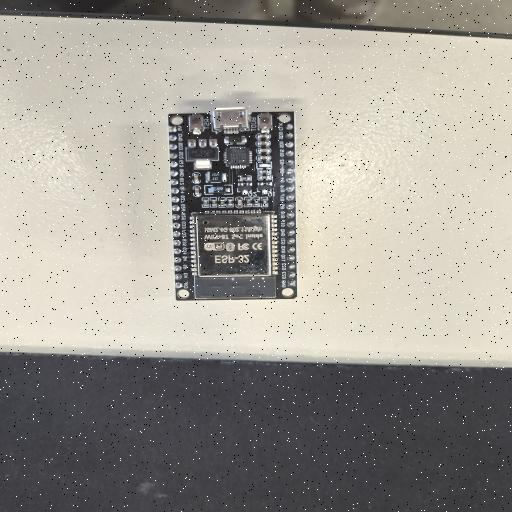esp32-dev: (168, 108, 297, 300)
